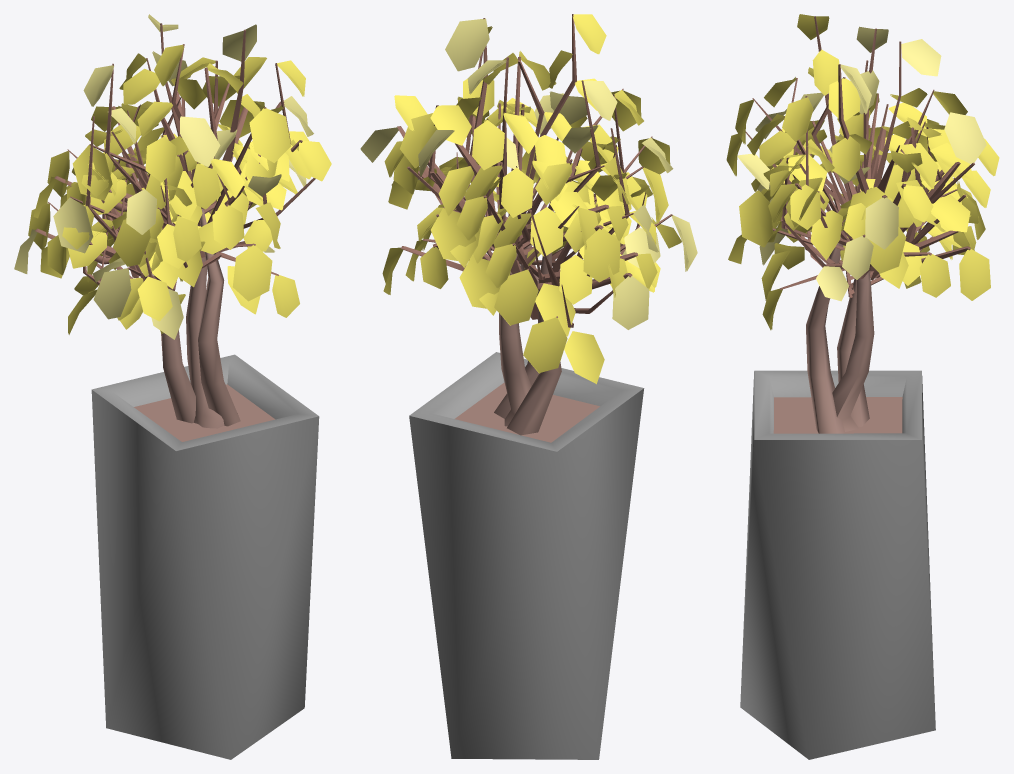
File: flower_031.glb
3 views of the same model, side by side, from view 1: azimuth 30°, elevation 25°; view 2: azimuth 150°, elevation 25°; view 3: azimuth 270°, elevation 25° (orthographic). The views are drawn at different scales.
Visible parts, largest first — view 1: flower_031; view 2: flower_031; view 3: flower_031.
Part boxes in pixels (<box>): flower_031: <box>14,14,331,759</box>; flower_031: <box>360,14,697,759</box>; flower_031: <box>726,14,999,759</box>.
Bounding box in the file's own units: 0.581 × 1.34 × 0.4836.
1 material, 1 textured.
